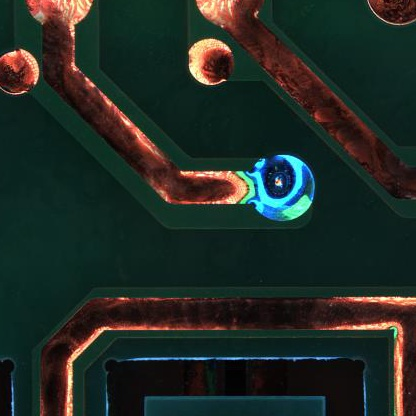spot: (247, 154, 318, 224)
